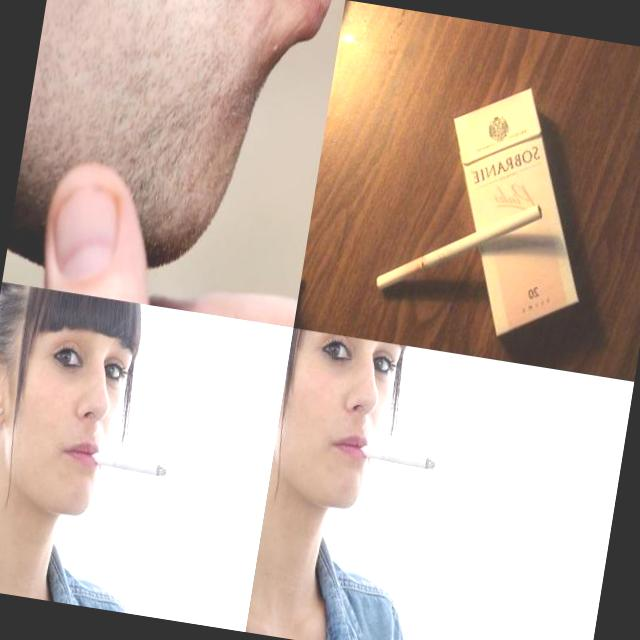cigarette: (373, 182, 544, 314), (356, 444, 437, 472), (88, 451, 168, 478)
